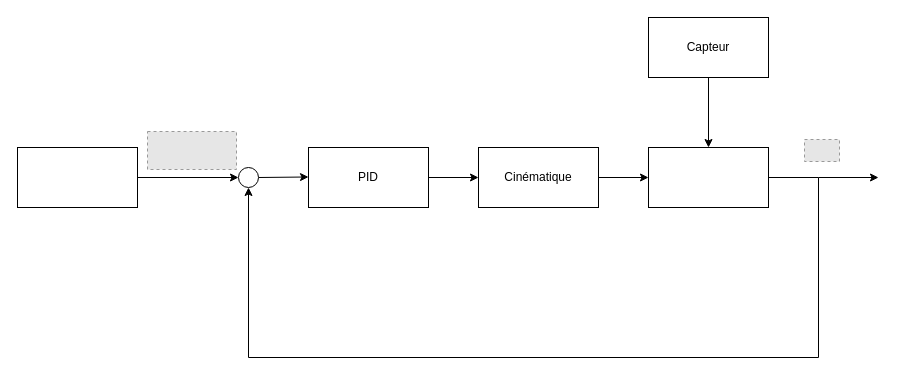
This 904x383 diagram has some shape labels left out. Grey dashed boxes stand in for pictures. The shapes that lost their labels are listed below. From the top down, each one's box as (x1, y1, x2, y2) in pixels, then its label:
(16, 146, 138, 208): Trajectoire désirée
(648, 146, 768, 208): EKF
